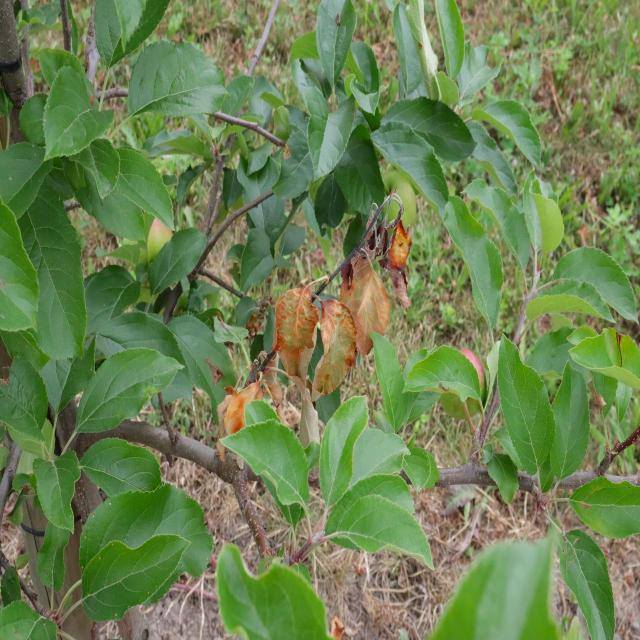-FireBlight-: (266, 278, 360, 396), (322, 252, 400, 338), (366, 198, 416, 304), (220, 378, 262, 428)
